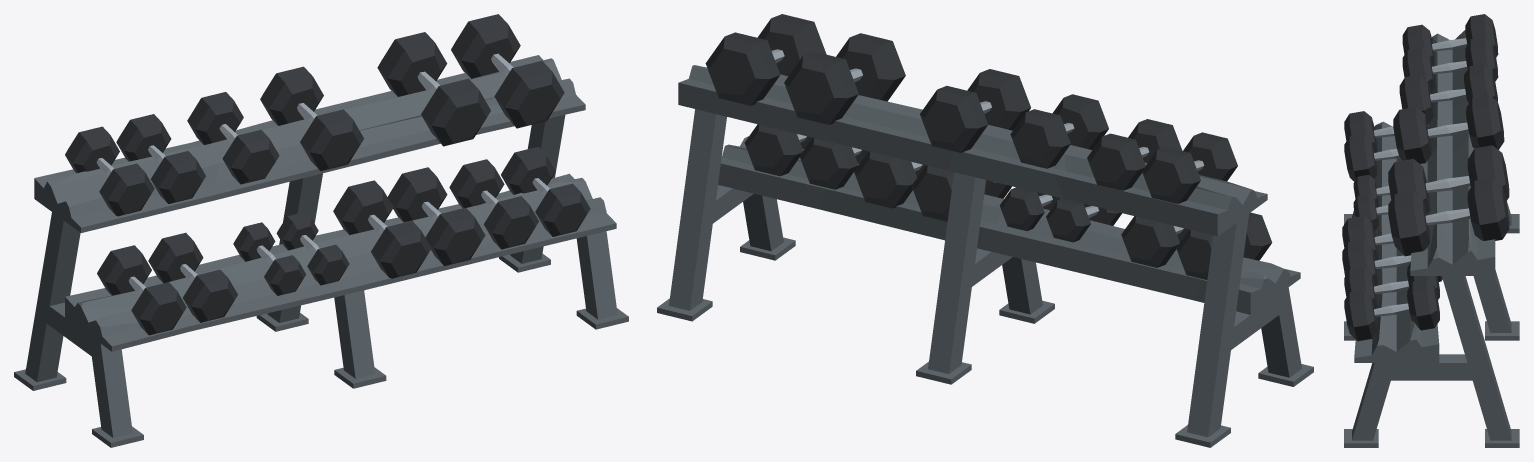
File: SM_Prop_Dumbbell_Rack_01.fbx
3 renders of one model, left to right at view 1: azimuth 30°, elevation 25°; view 2: azimuth 150°, elevation 25°; view 3: azimuth 270°, elevation 25°, orthographic. The views are drawn at different scales.
Parts seen in each view (by area): view 1: SM_Prop_Dumbbell_Rack_01; view 2: SM_Prop_Dumbbell_Rack_01; view 3: SM_Prop_Dumbbell_Rack_01.
Boxes of the visible parts, left/top/right/bottom form: SM_Prop_Dumbbell_Rack_01: left=14, top=14, right=628, bottom=447; SM_Prop_Dumbbell_Rack_01: left=657, top=14, right=1313, bottom=447; SM_Prop_Dumbbell_Rack_01: left=1342, top=14, right=1519, bottom=447.
Bounding box in the file's own units: 192 × 92.1 × 62.82.
